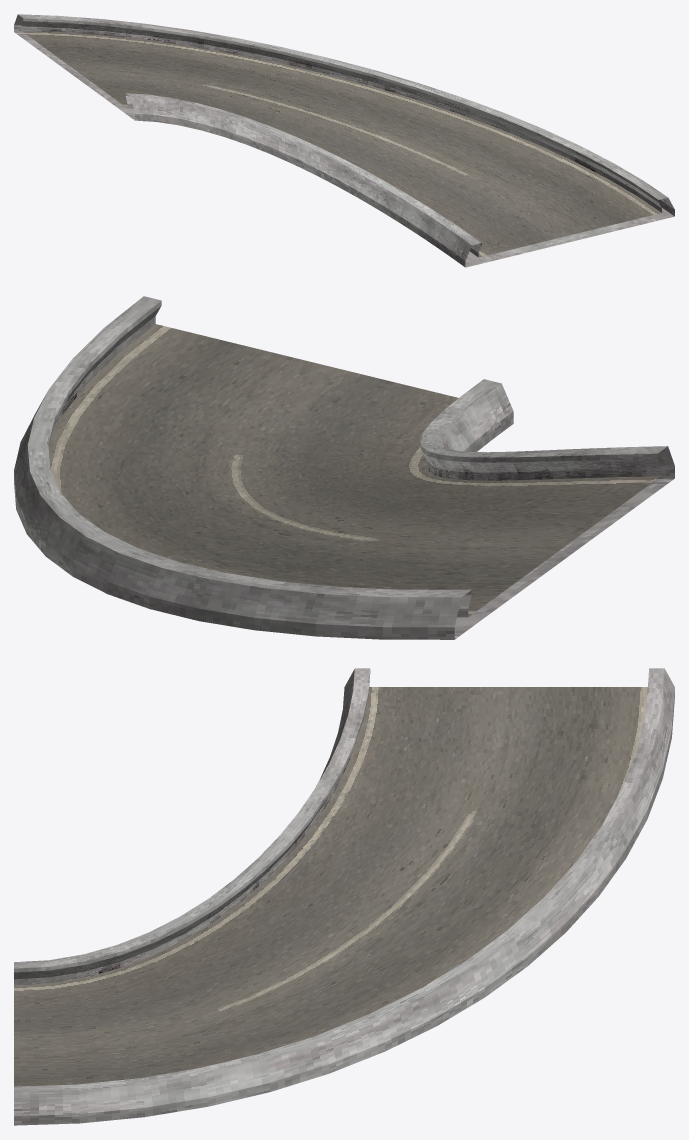
Rendered from road-Turn-Flat-BiSlopeUp-Up2-Left-Size2.glb.
3 views of the same model, one above another, from view 1: azimuth 30°, elevation 25°; view 2: azimuth 150°, elevation 25°; view 3: azimuth 270°, elevation 25° (orthographic). The views are drawn at different scales.
Visible parts, largest first — view 1: road-Turn-Flat-BiSlopeUp-Up2-Left-Size2; view 2: road-Turn-Flat-BiSlopeUp-Up2-Left-Size2; view 3: road-Turn-Flat-BiSlopeUp-Up2-Left-Size2.
Boxes of the visible parts, left/top/right/bottom form: road-Turn-Flat-BiSlopeUp-Up2-Left-Size2: left=14, top=14, right=674, bottom=267; road-Turn-Flat-BiSlopeUp-Up2-Left-Size2: left=14, top=296, right=674, bottom=639; road-Turn-Flat-BiSlopeUp-Up2-Left-Size2: left=14, top=668, right=674, bottom=1125.
Size of the model in its own units: 2 by 0.5938 by 2.
Materials: 2 (2 with a texture image).
